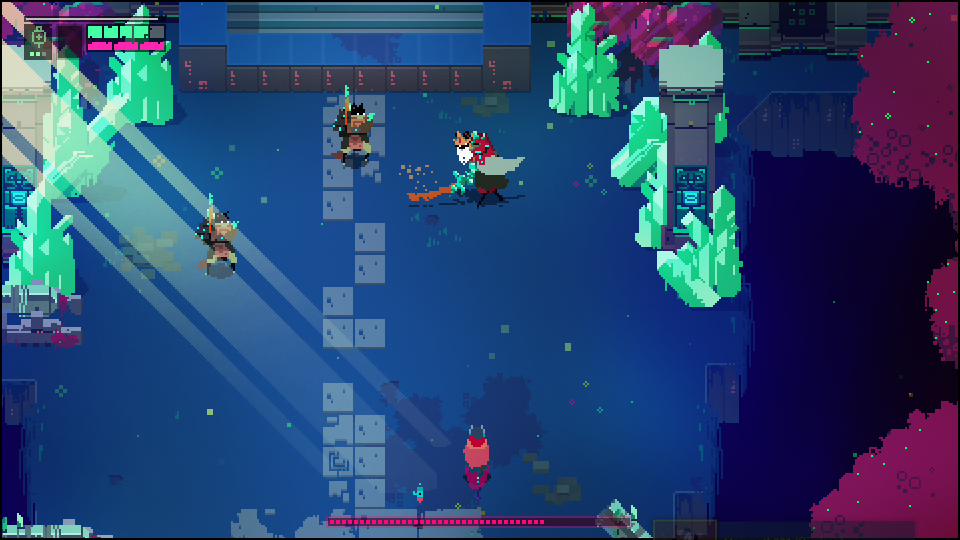hanged_man: (441, 125, 528, 209)
player: (458, 417, 495, 486)
